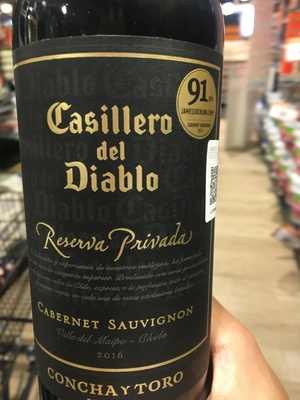casillero del diablo reserva privada cabernet sauvignon: (13, 8, 216, 400)
